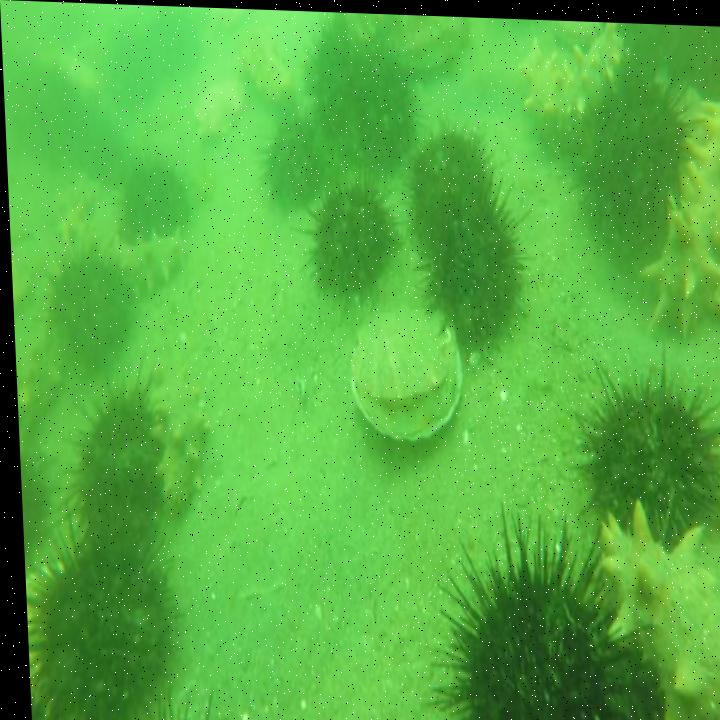echinus: (421, 486, 637, 720), (564, 334, 720, 556), (18, 521, 177, 720), (563, 54, 702, 243), (57, 359, 166, 561), (419, 184, 536, 360), (31, 232, 138, 373), (401, 115, 501, 259), (292, 176, 405, 303), (331, 42, 416, 176), (106, 145, 196, 238), (256, 114, 332, 214), (15, 428, 50, 575)
holothurian: (597, 492, 720, 720), (633, 90, 720, 329), (516, 15, 629, 144), (151, 383, 211, 511), (93, 224, 190, 300), (239, 21, 297, 106)
scallop: (341, 305, 462, 447), (189, 68, 244, 147)
